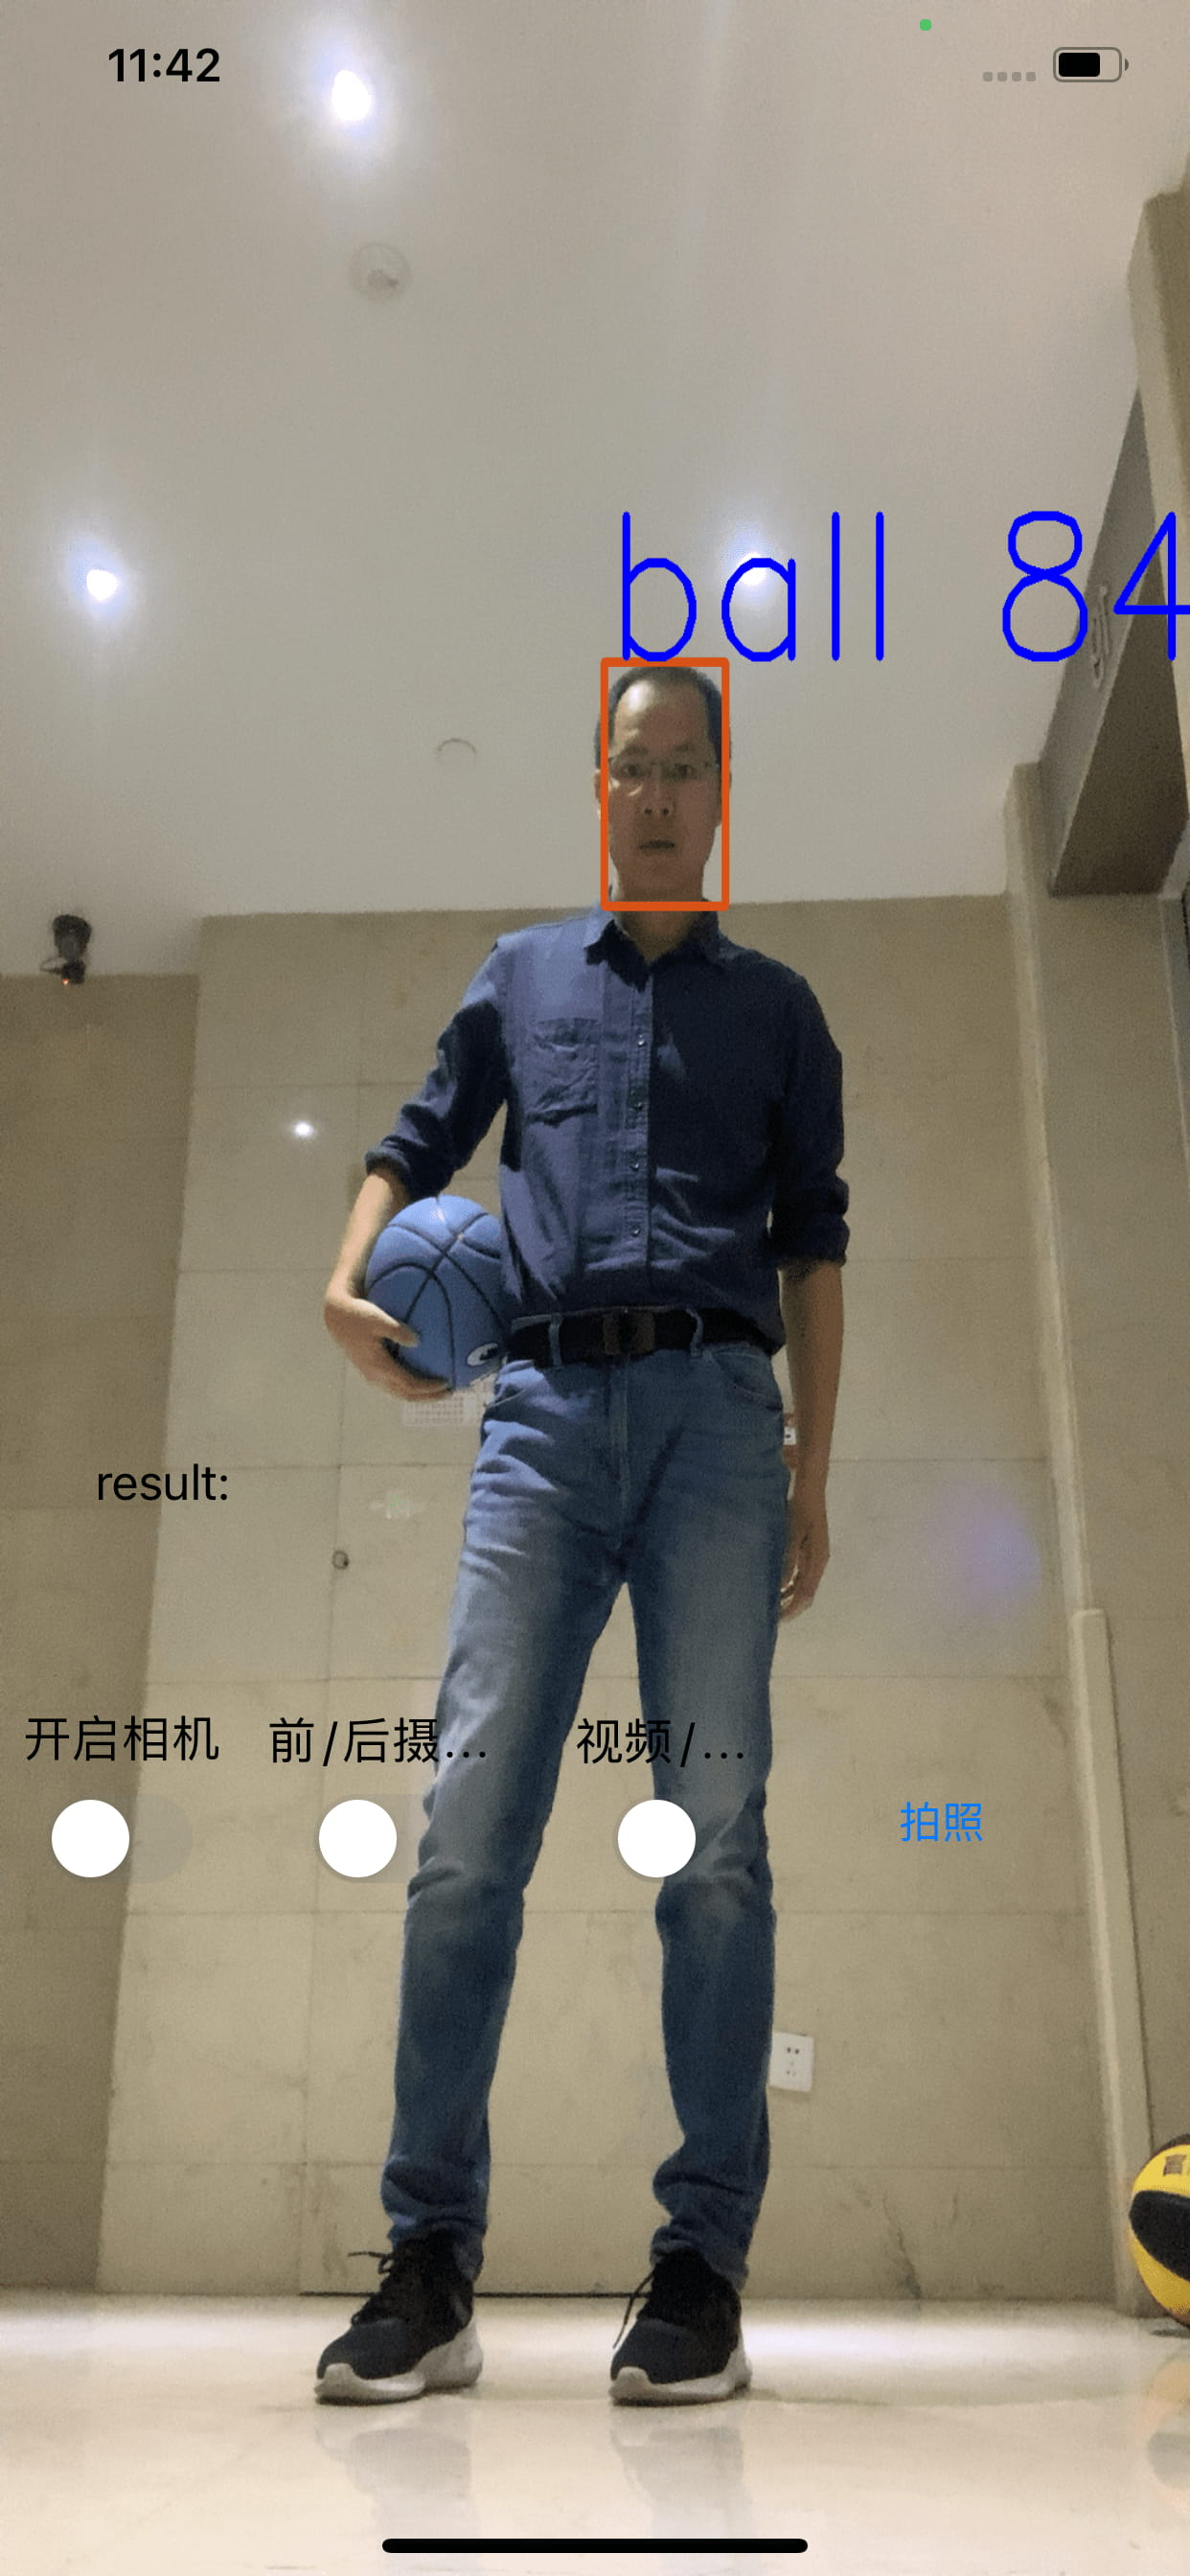ball: (360, 1191, 510, 1387)
